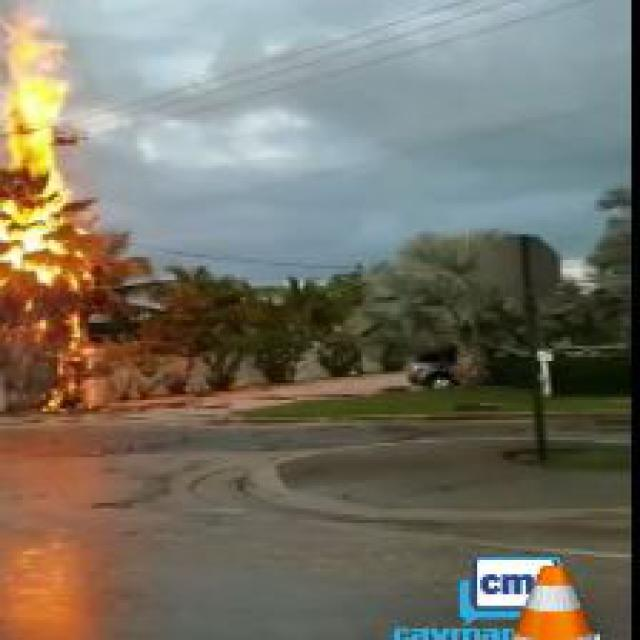fire: (3, 11, 106, 352)
